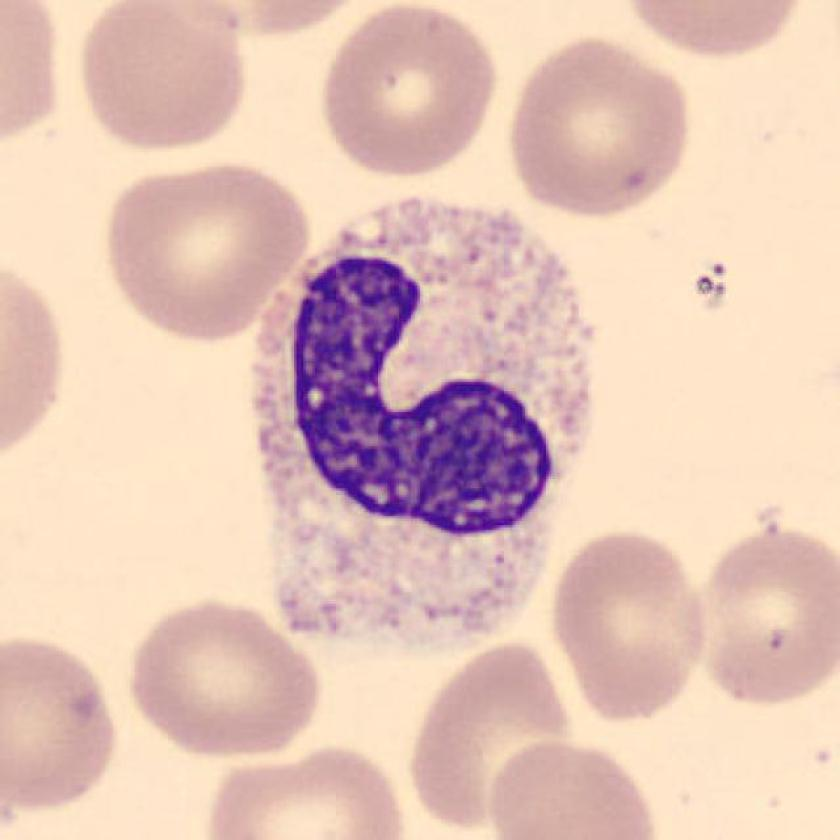neutrophil: (251, 194, 595, 639)
